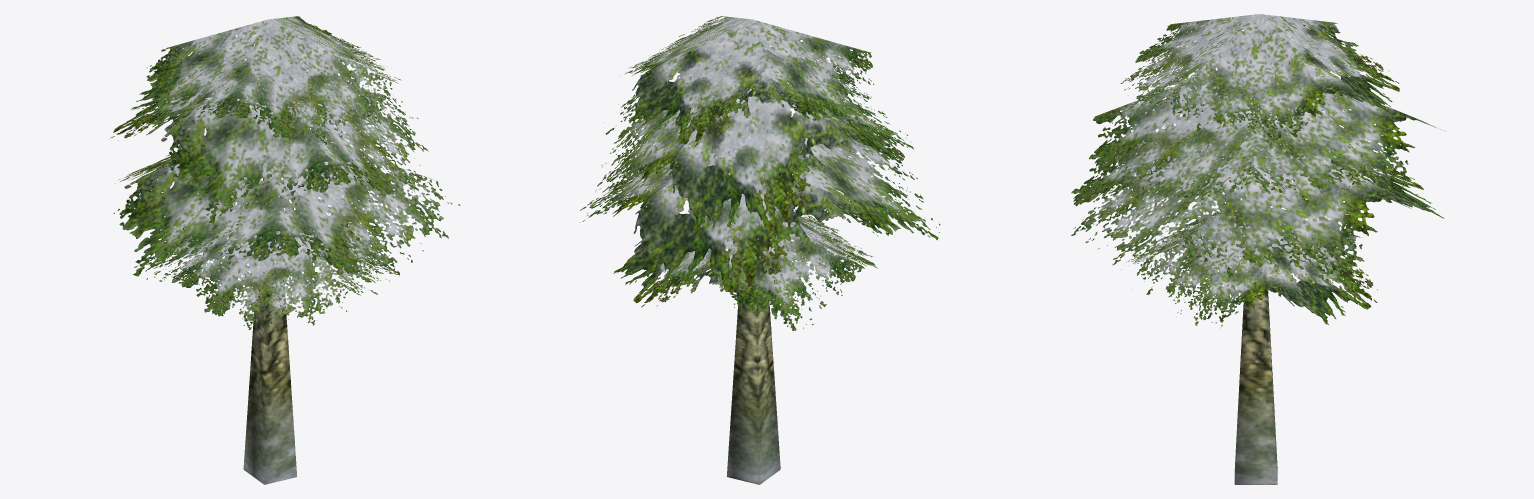
The model's file is tree4.dae.
The picture shows the model from 3 angles, left to right: view 1: azimuth 30°, elevation 25°; view 2: azimuth 150°, elevation 25°; view 3: azimuth 270°, elevation 25°; orthographic projection. The views are drawn at different scales.
Visible parts, largest first — view 1: Untitled; view 2: Untitled; view 3: Untitled.
Boxes of the visible parts, x1,y1,x2,y2 form: Untitled: [110, 16, 460, 484]; Untitled: [580, 16, 940, 484]; Untitled: [1071, 14, 1444, 484].
Bounding box in the file's own units: 4.06 × 4.42 × 4.33.
Materials: 1 (1 with a texture image).
